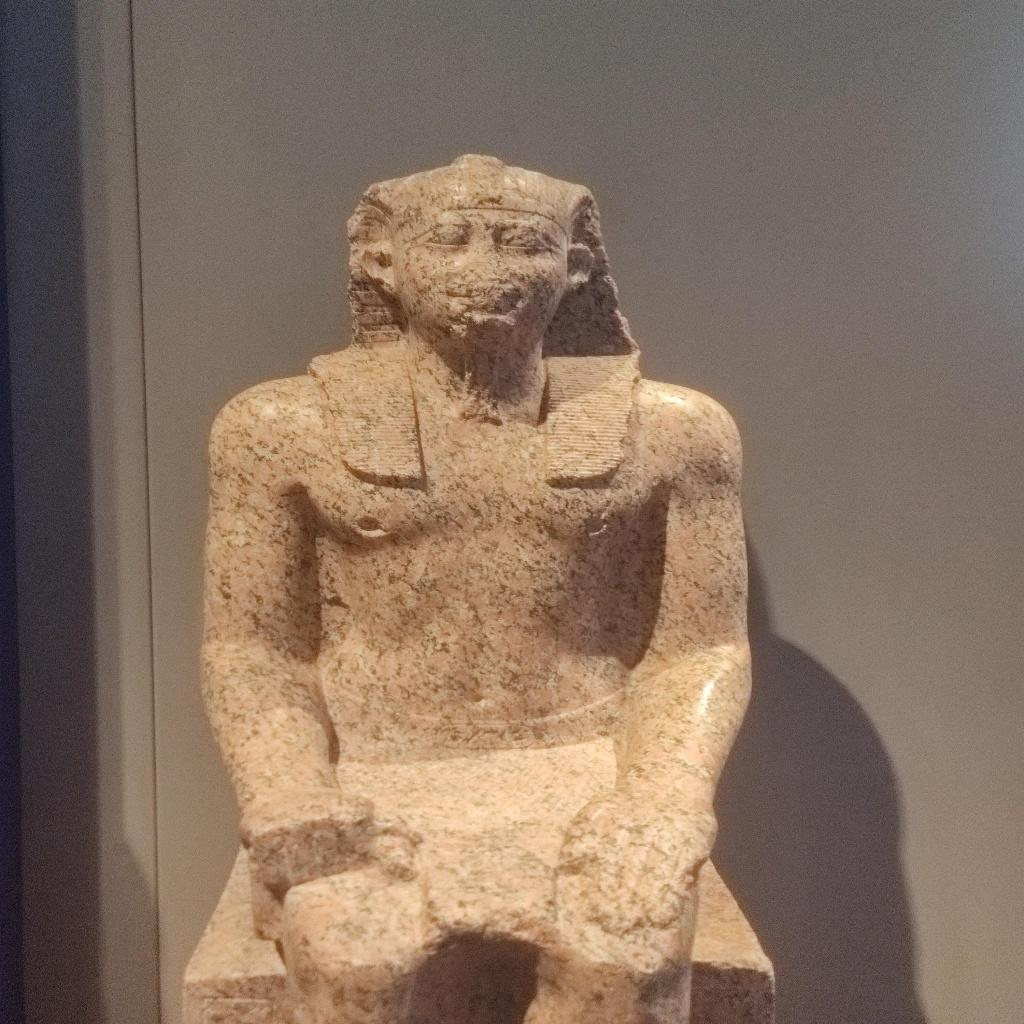Statue of Amenmhat I: (182, 150, 763, 1022)
